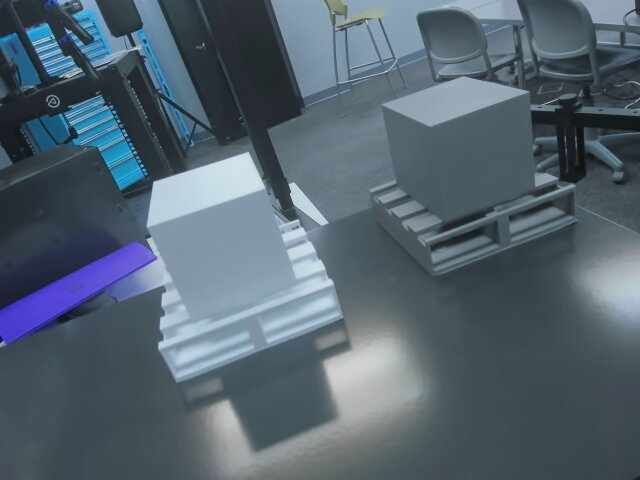grey pallet: (365, 74, 583, 279)
white pallet: (144, 148, 350, 384)
